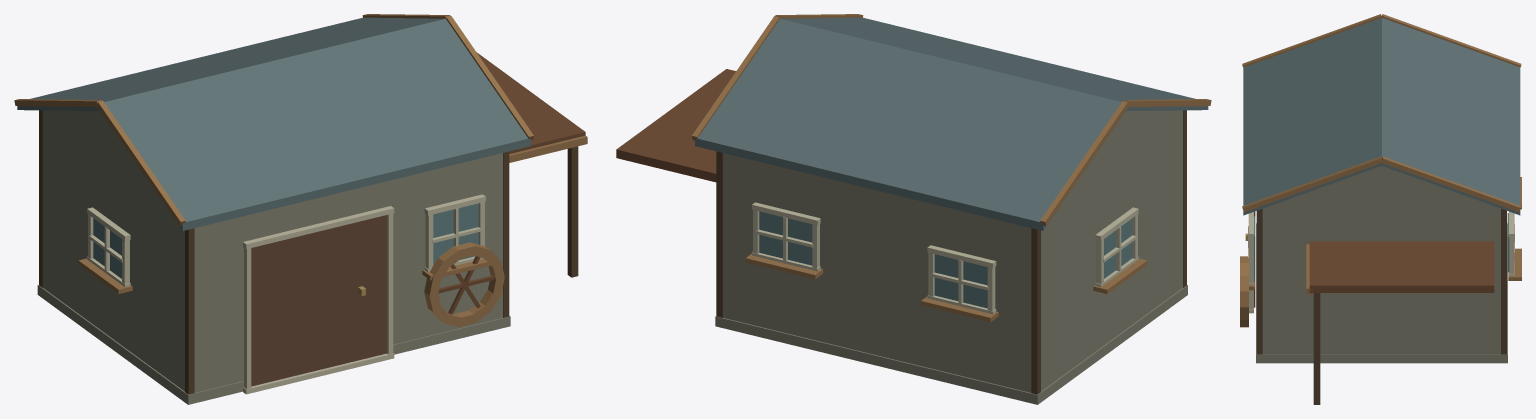
File: Building_Settlement_CartwrightWorkshop_001.glb
The picture shows the model from 3 angles, left to right: view 1: azimuth 30°, elevation 25°; view 2: azimuth 150°, elevation 25°; view 3: azimuth 270°, elevation 25°; orthographic projection. The views are drawn at different scales.
Parts seen in each view (by area): view 1: Building_Settlement_CartwrightWorkshop_001; view 2: Building_Settlement_CartwrightWorkshop_001; view 3: Building_Settlement_CartwrightWorkshop_001.
Boxes of the visible parts, box(x1,y1,x2,y2) form: Building_Settlement_CartwrightWorkshop_001: box(14, 14, 587, 404); Building_Settlement_CartwrightWorkshop_001: box(616, 14, 1211, 404); Building_Settlement_CartwrightWorkshop_001: box(1240, 14, 1521, 404).
Bounding box in the file's own units: 8.62 × 4.67 × 5.64.
